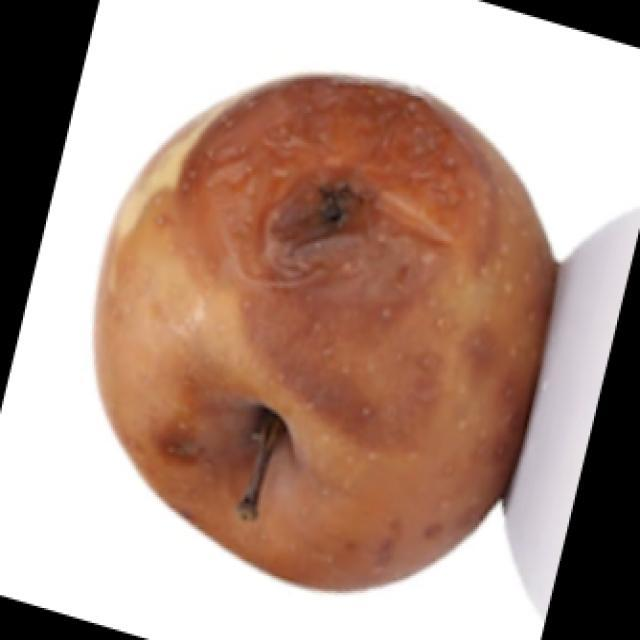Rotten: (93, 65, 542, 595)
